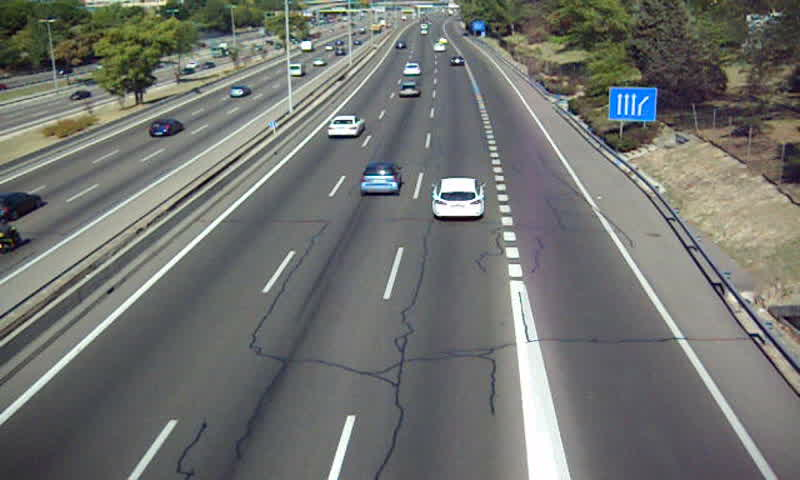car: (431, 178, 487, 217), (361, 163, 403, 195), (329, 117, 363, 137), (399, 82, 420, 99), (402, 62, 420, 77), (450, 54, 466, 67)
